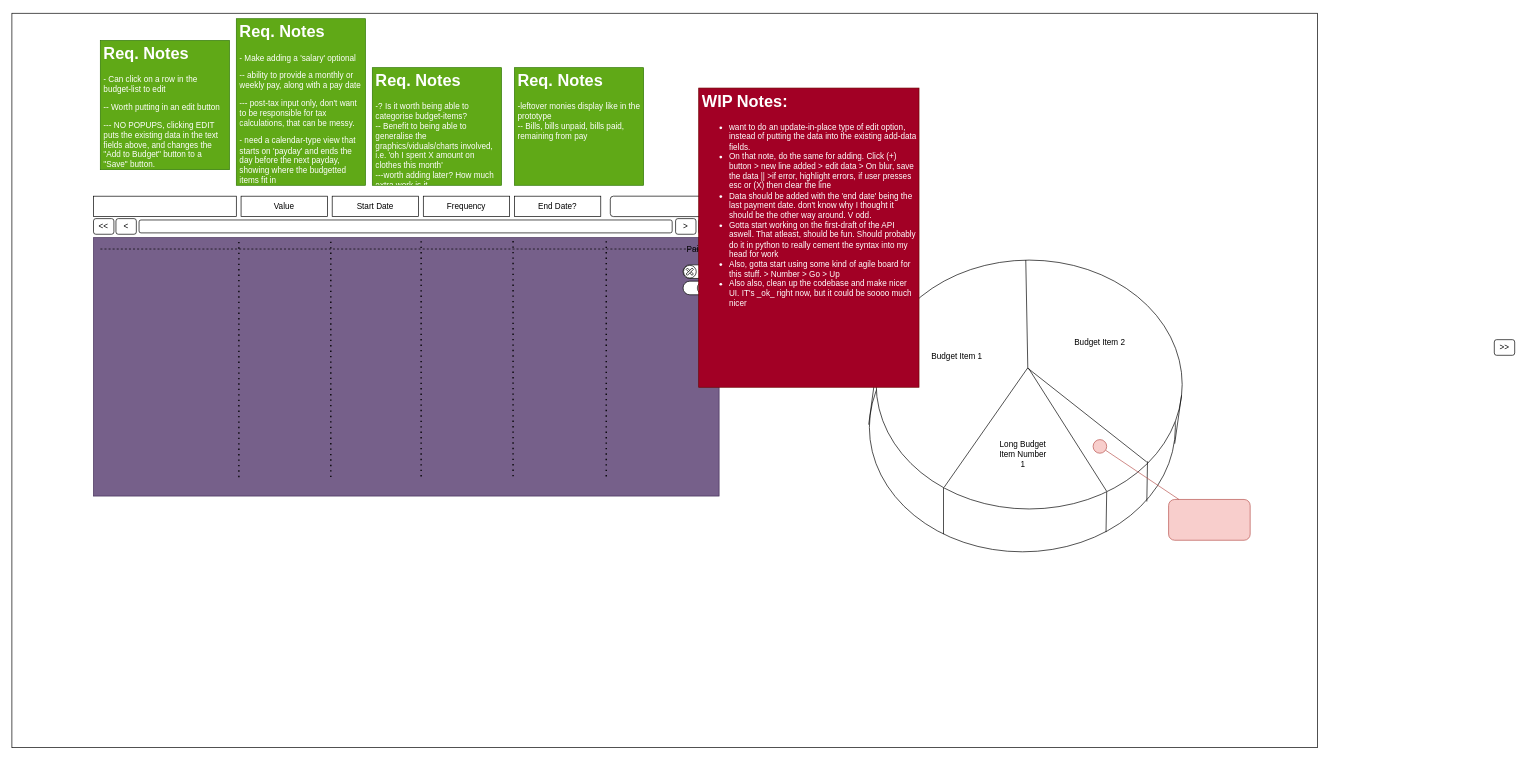
Some shapes in this 1527 by 760 pixel diagram are drawn without their labels. Each missing label, with the box of its shape:
${MONTH}: (138, 219, 672, 233)
Add to Budget: (610, 196, 719, 217)
Budget Item that Doesn't fit within the given space: (1168, 499, 1250, 540)
Item Name: (93, 196, 236, 217)
